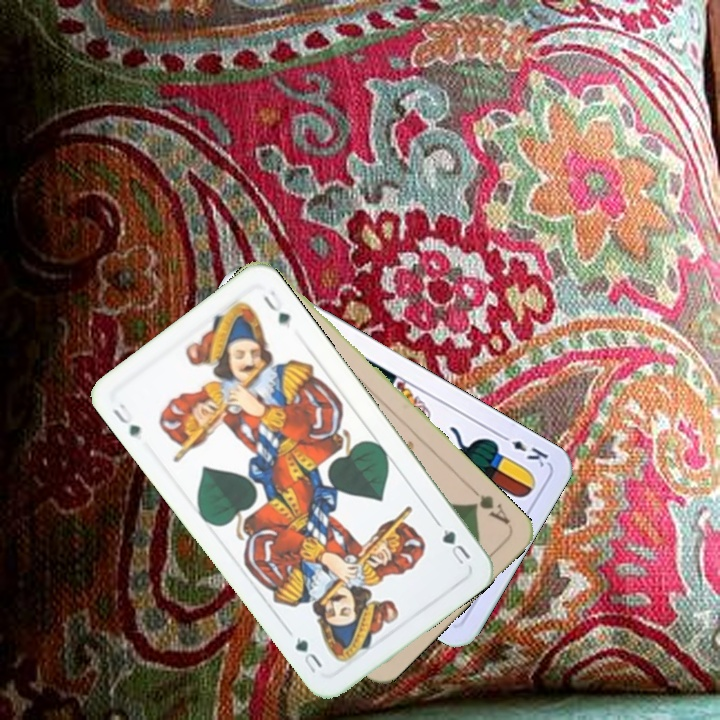EK: (495, 429, 551, 470)
GA: (466, 483, 513, 528)
GU: (438, 524, 474, 567), (108, 399, 143, 439)
